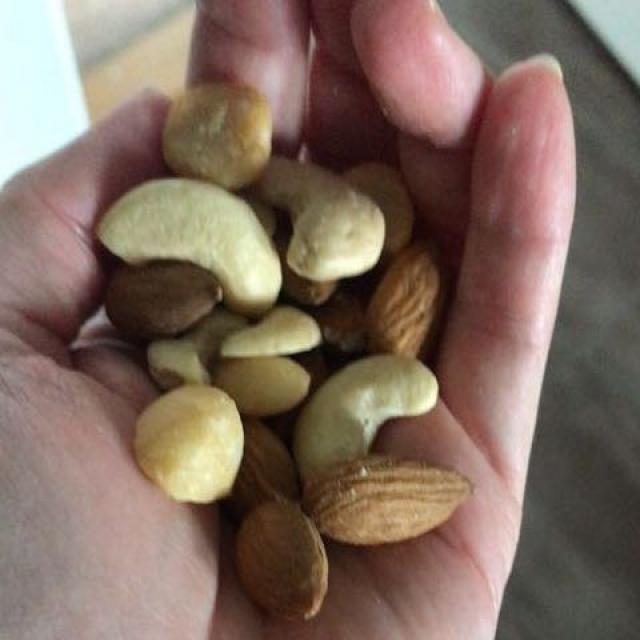mixed-nuts: (110, 74, 499, 607)
